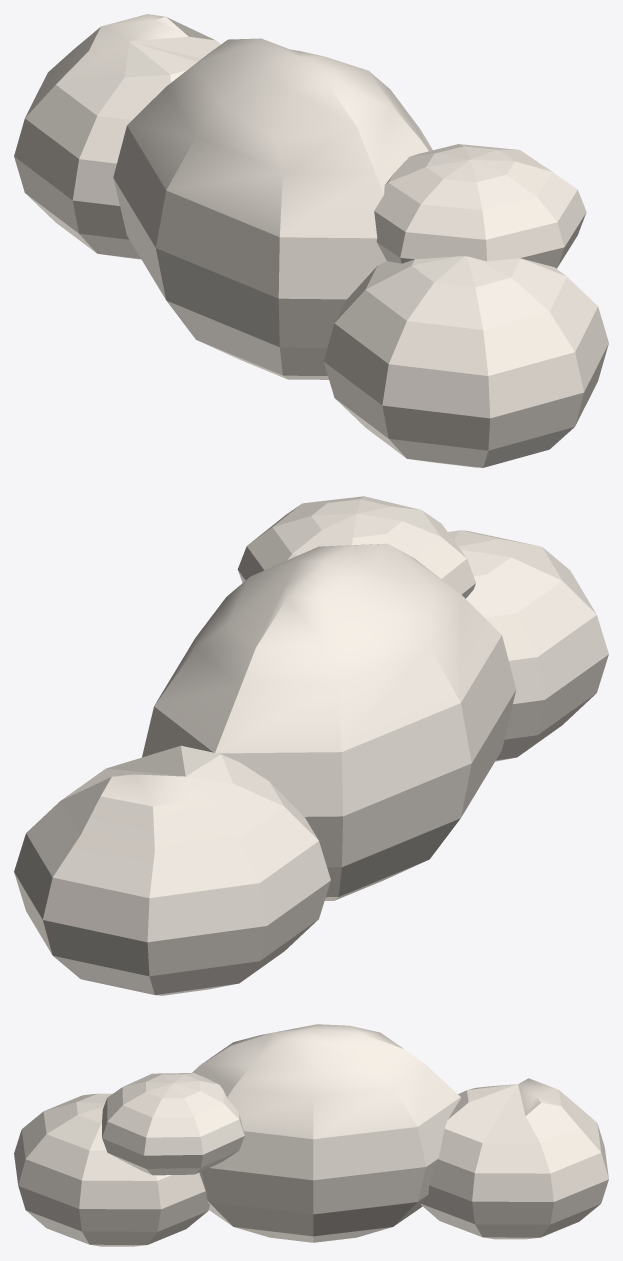
The model's file is Cloud 3.fbx.
The picture shows the model from 3 angles, top to bottom: view 1: azimuth 30°, elevation 25°; view 2: azimuth 150°, elevation 25°; view 3: azimuth 270°, elevation 25°; orthographic projection. The views are drawn at different scales.
Parts seen in each view (by area): view 1: Cloud_3; view 2: Cloud_3; view 3: Cloud_3.
Part boxes in pixels (x1,y1,x2,y2): Cloud_3: (14,14,608,467); Cloud_3: (14,496,608,995); Cloud_3: (14,1024,608,1246).
Size of the model in its own units: 224 by 209 by 549.
1 material, 1 textured.
